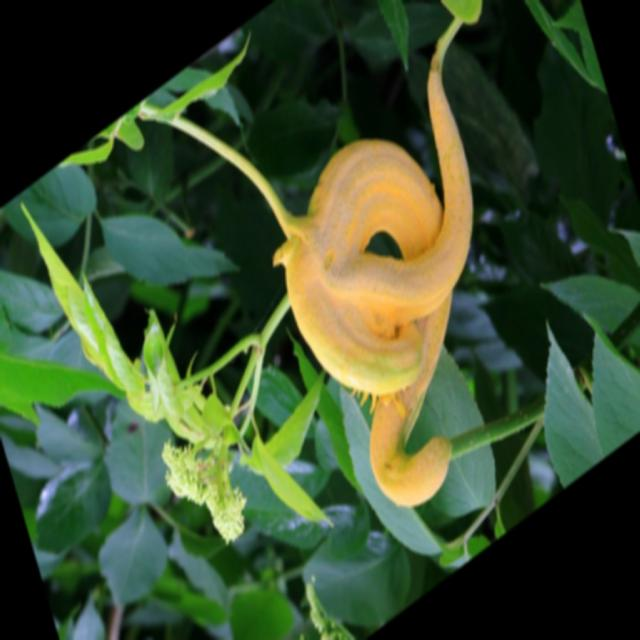Elderberry_rust: (271, 51, 475, 508)
